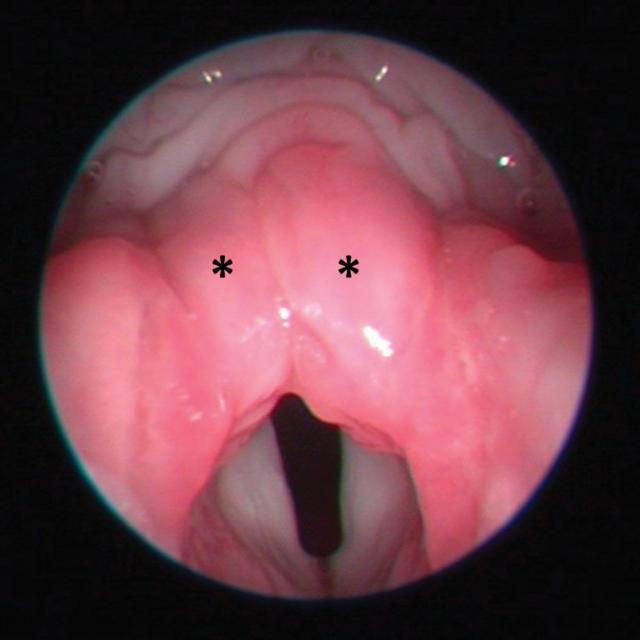arytenoid cartilagerotation: (41, 139, 586, 477)
larynxrotation: (264, 388, 358, 564)
